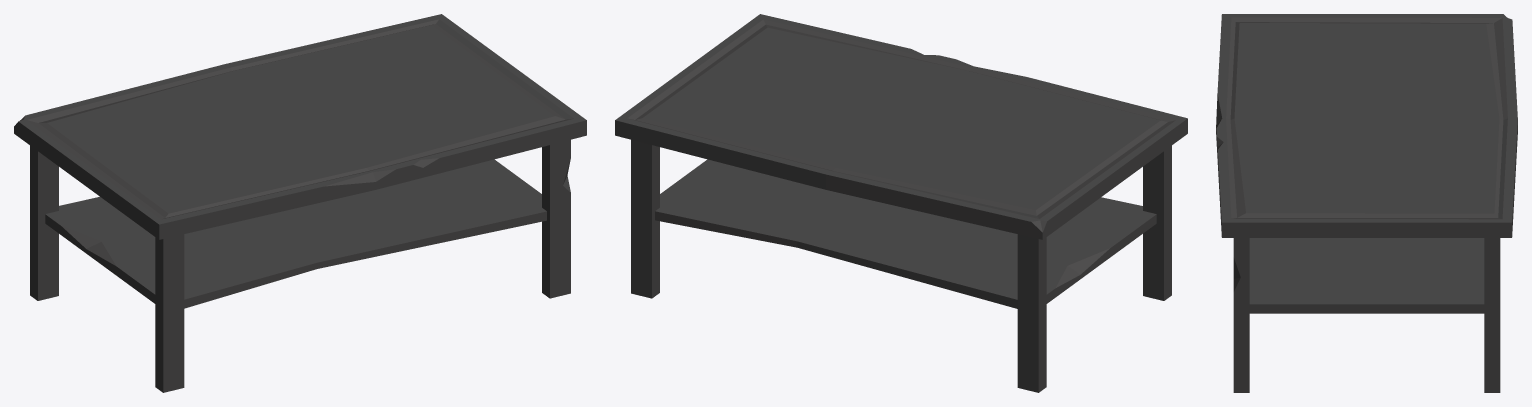
Rendered from SM_Prop_CoffeeTable_02.fbx.
3 renders of one model, left to right at view 1: azimuth 30°, elevation 25°; view 2: azimuth 150°, elevation 25°; view 3: azimuth 270°, elevation 25°, orthographic.
Parts seen in each view (by area): view 1: SM_Prop_CoffeeTable_02; view 2: SM_Prop_CoffeeTable_02; view 3: SM_Prop_CoffeeTable_02.
Part boxes in pixels (box(x1,y1,x2,y2)): SM_Prop_CoffeeTable_02: box(14, 14, 586, 392); SM_Prop_CoffeeTable_02: box(615, 14, 1187, 392); SM_Prop_CoffeeTable_02: box(1216, 14, 1517, 392).
Size of the model in its own units: 136 by 53.23 by 83.12.
